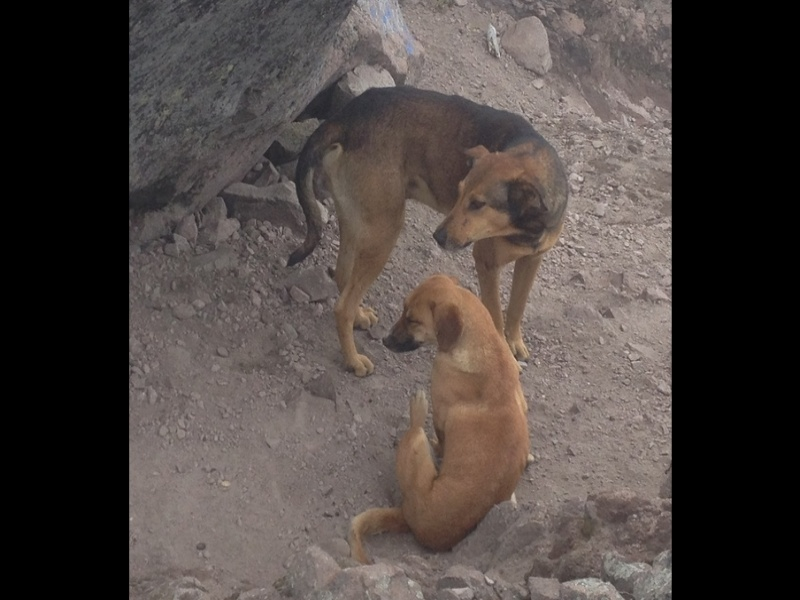dog: (278, 81, 572, 378), (358, 272, 537, 558)
